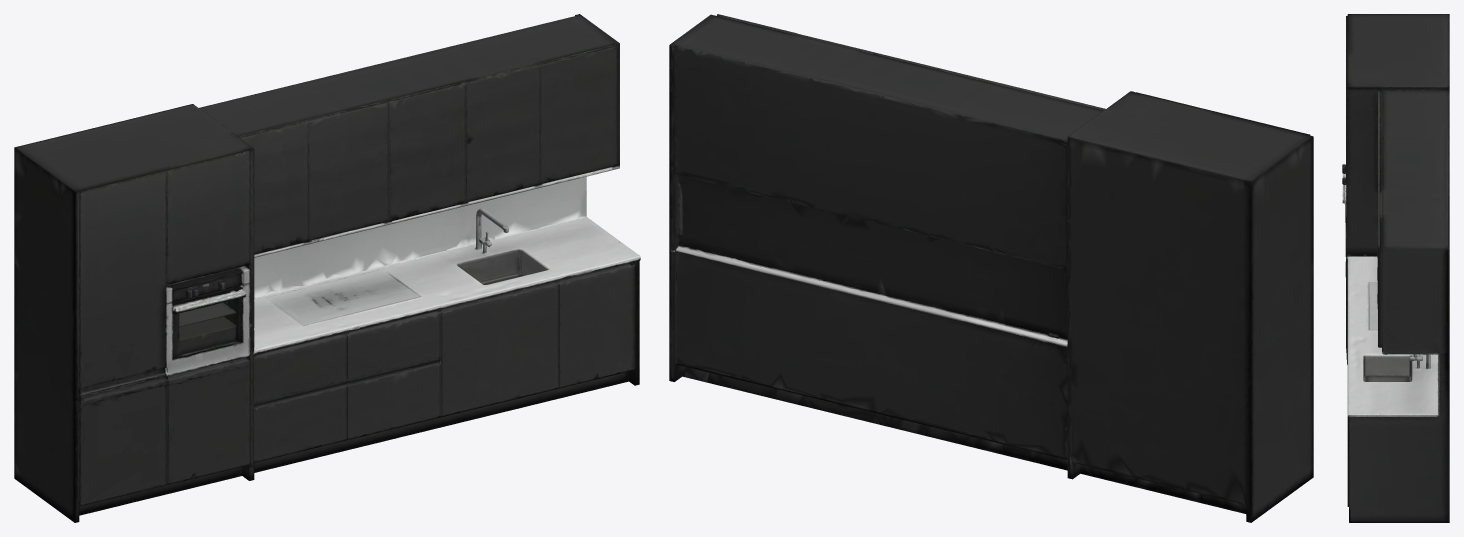
Rendered from facades.glb.
3 views of the same model, side by side, from view 1: azimuth 30°, elevation 25°; view 2: azimuth 150°, elevation 25°; view 3: azimuth 270°, elevation 25° (orthographic). The views are drawn at different scales.
Visible parts, largest first — view 1: tripo_node_9d140157-e60b-4d39-a4e1-a99b12e101e4; view 2: tripo_node_9d140157-e60b-4d39-a4e1-a99b12e101e4; view 3: tripo_node_9d140157-e60b-4d39-a4e1-a99b12e101e4.
Part boxes in pixels (bbox=[...]): tripo_node_9d140157-e60b-4d39-a4e1-a99b12e101e4: bbox=[14, 14, 640, 522]; tripo_node_9d140157-e60b-4d39-a4e1-a99b12e101e4: bbox=[669, 14, 1313, 522]; tripo_node_9d140157-e60b-4d39-a4e1-a99b12e101e4: bbox=[1342, 14, 1449, 522].
Size of the model in its own units: 0.979 by 0.5478 by 0.1922.
Materials: 1 (1 with a texture image).
